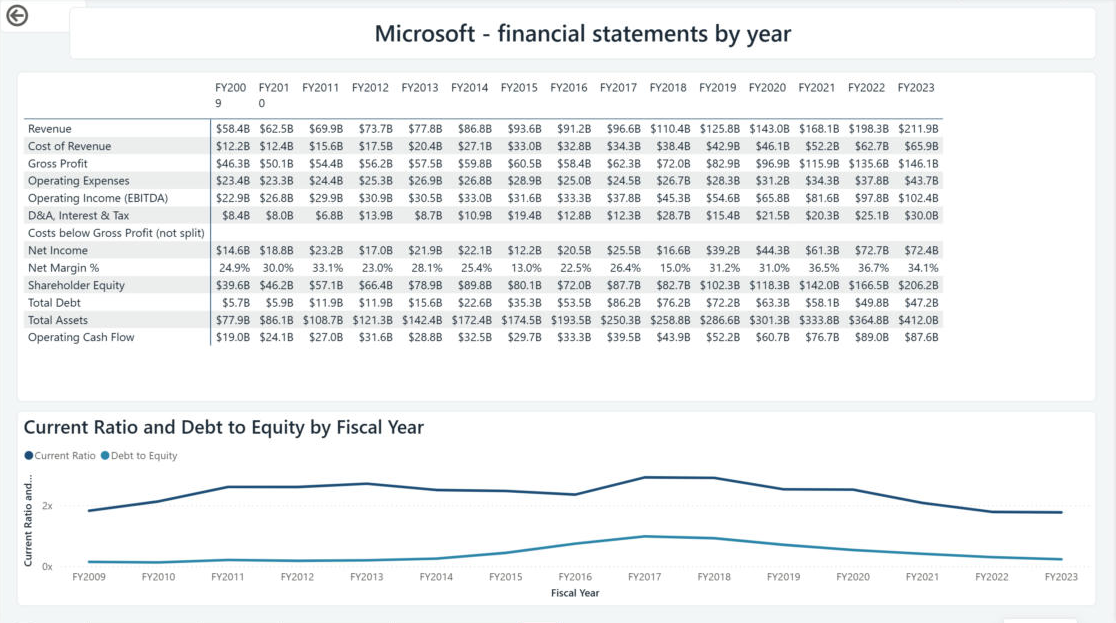

Layout of this report page (visuals, bound fields, positions):
{"tool":"powerbi","page":{"name":"Company Detail","canvas":[1280,720],"ordinal":3},"visuals":[{"type":"actionButton","box":[0,0,100,40],"z":0},{"type":"card","fields":{"Values":["_Measures.Company Header"]},"box":[80,10,1180,60],"z":1},{"type":"pivotTable","fields":{"Columns":["DimYear.Fiscal Year"],"Values":["_Measures.Revenue","_Measures.Cost of Revenue","_Measures.Gross Profit","_Measures.Operating Expenses","_Measures.Operating Income (EBITDA)","_Measures.D&A, Interest & Tax","_Measures.Costs below Gross Profit (not split)","_Measures.Net Income","_Measures.Net Margin %","_Measures.Shareholder Equity","_Measures.Total Debt","_Measures.Total Assets"]},"box":[20,85,1240,380],"z":2},{"type":"lineChart","fields":{"Category":["DimYear.Fiscal Year"],"Y":["_Measures.Current Ratio","_Measures.Debt to Equity"]},"box":[20,475,1240,225],"z":3}]}

Visuals, with their boxes in screenshot pixels (x1, y1, x2, y2), scaled from the page's 1280x720 canvas onto the 1116x623 screenshot:
actionButton: detection(0, 0, 87, 35)
card - _Measures.Company Header: detection(70, 9, 1099, 61)
pivotTable - DimYear.Fiscal Year x _Measures.Revenue: detection(17, 74, 1099, 402)
lineChart - DimYear.Fiscal Year x _Measures.Current Ratio: detection(17, 411, 1099, 606)
